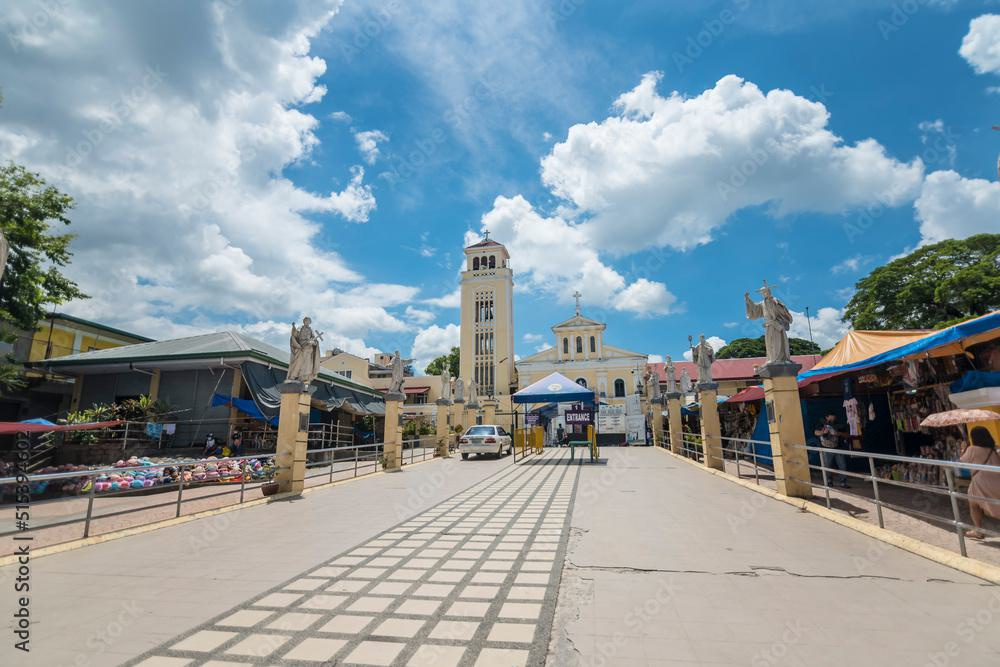manaoag_church_manaoag_pangasinan: (454, 221, 652, 435)
